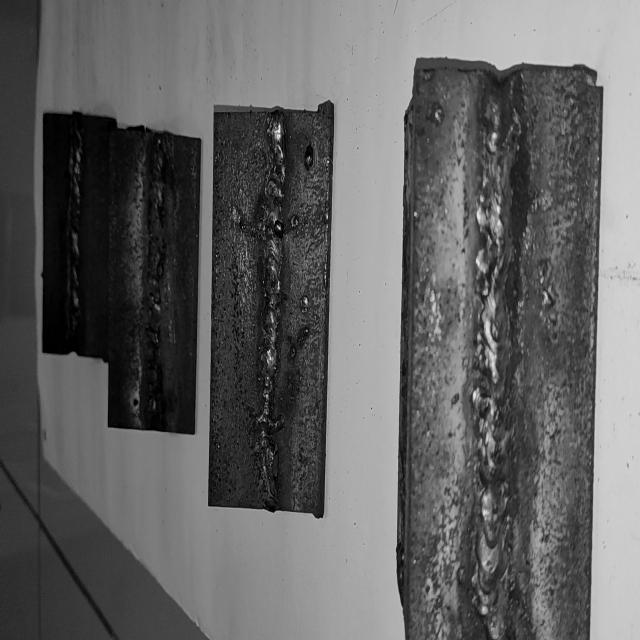Bad Weld: (146, 135, 168, 426)
Defect: (146, 133, 172, 420)
Good Weld: (476, 87, 517, 640), (257, 114, 287, 504), (68, 124, 84, 352)
